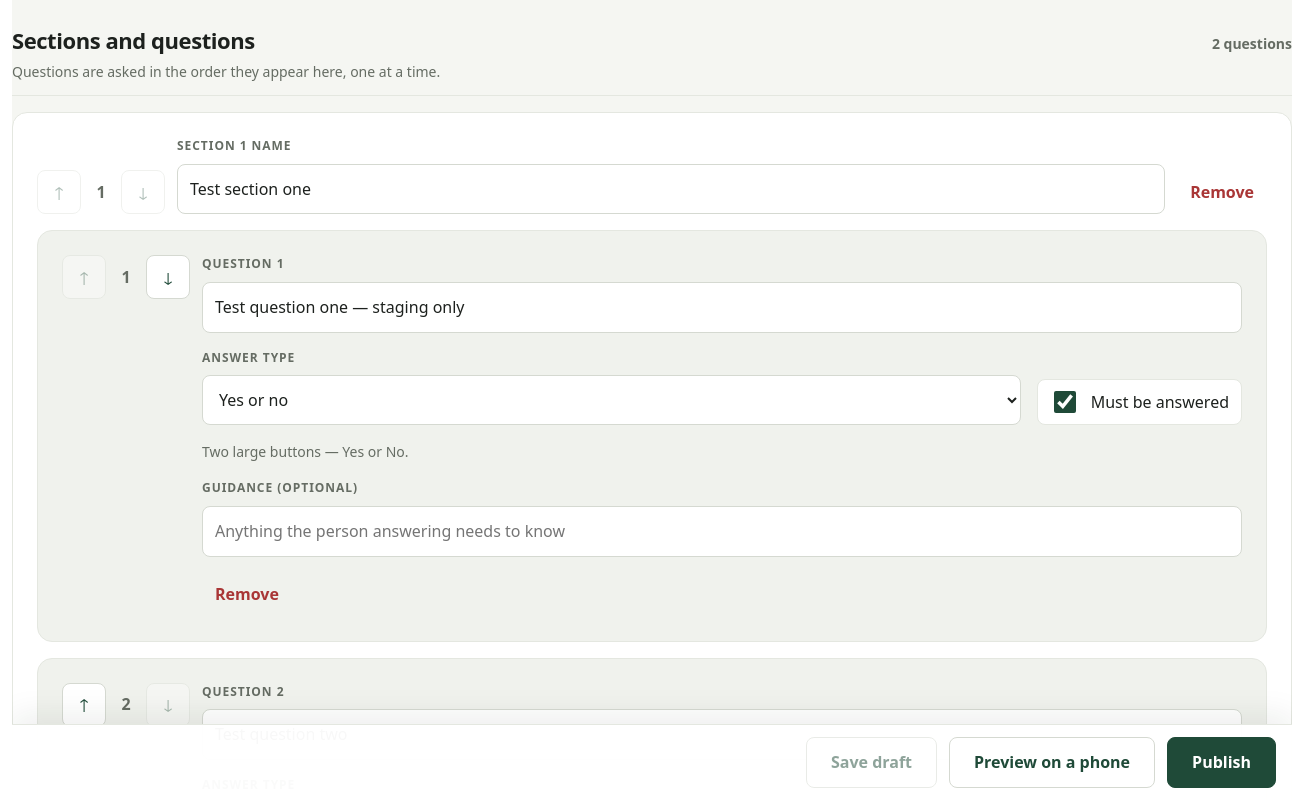
Test case: draft editor › a choice question is never reduced below two options
(page scrolled)
Select "Choose any that apply" in the dropdown labelled "Answer type" at (611, 400), box 202,376 -> 1021,426
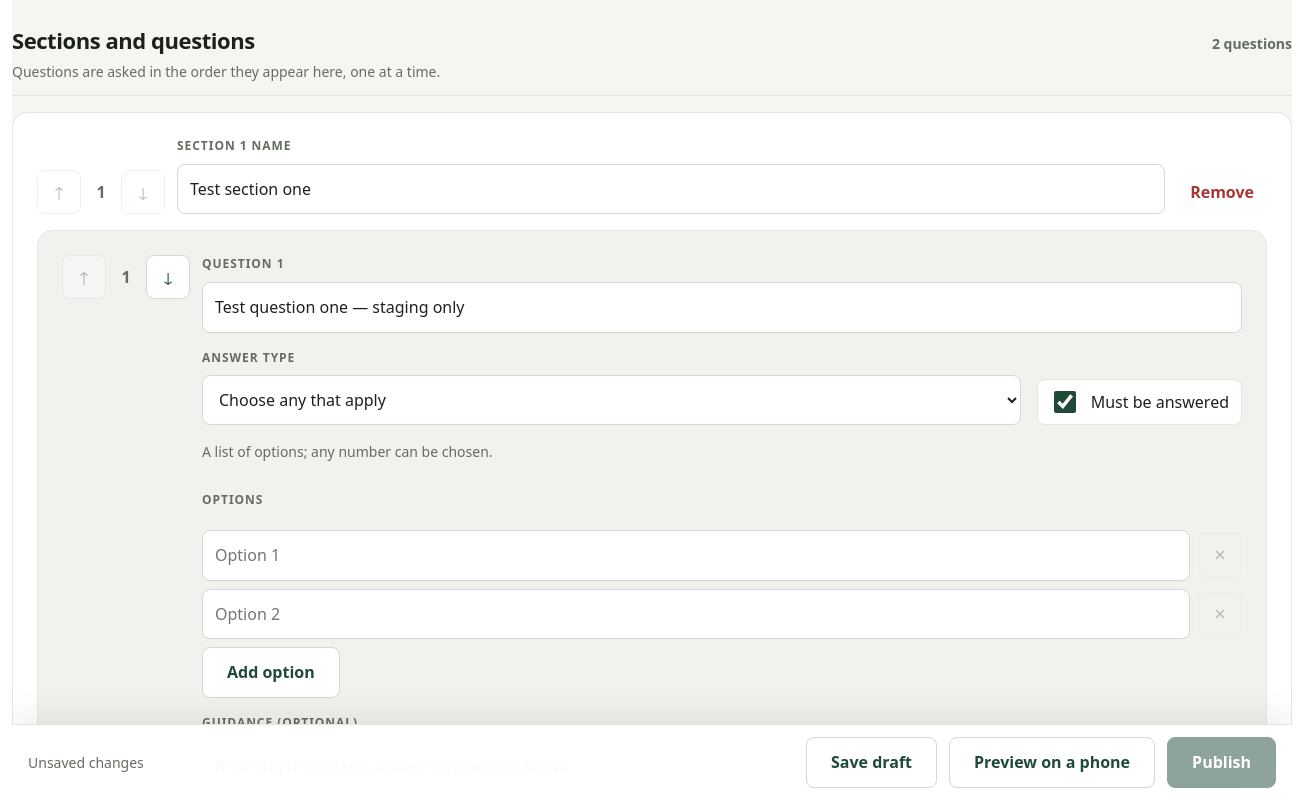
Result: the button named "Remove option" is disabled at 1198,533 -> 1242,577
Click the button "Add option" at (271, 673), box 202,647 -> 340,698
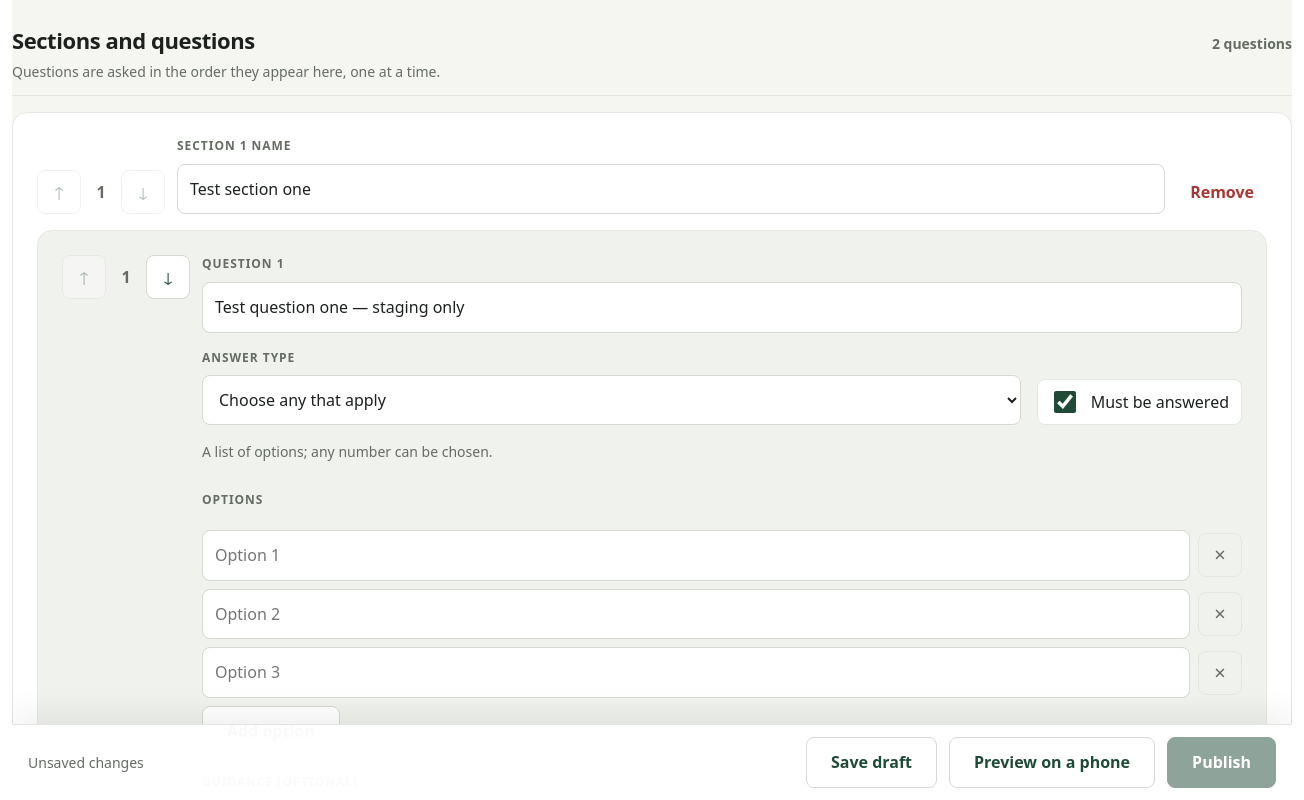
Result: the button named "Remove option" is enabled at 1198,533 -> 1242,577
